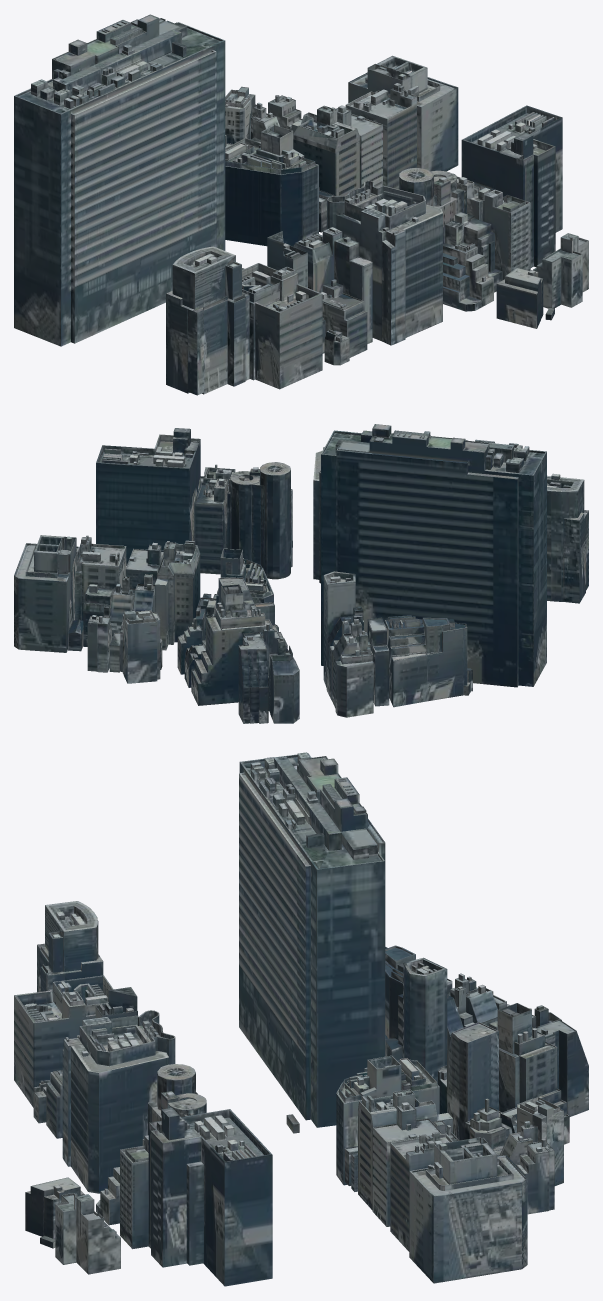
Rendered from data528.glb.
3 renders of one model, top to bottom at view 1: azimuth 30°, elevation 25°; view 2: azimuth 150°, elevation 25°; view 3: azimuth 270°, elevation 25°, orthographic. The views are drawn at different scales.
Size of the model in its own units: 224 by 112 by 196.
2 materials, 1 textured.
